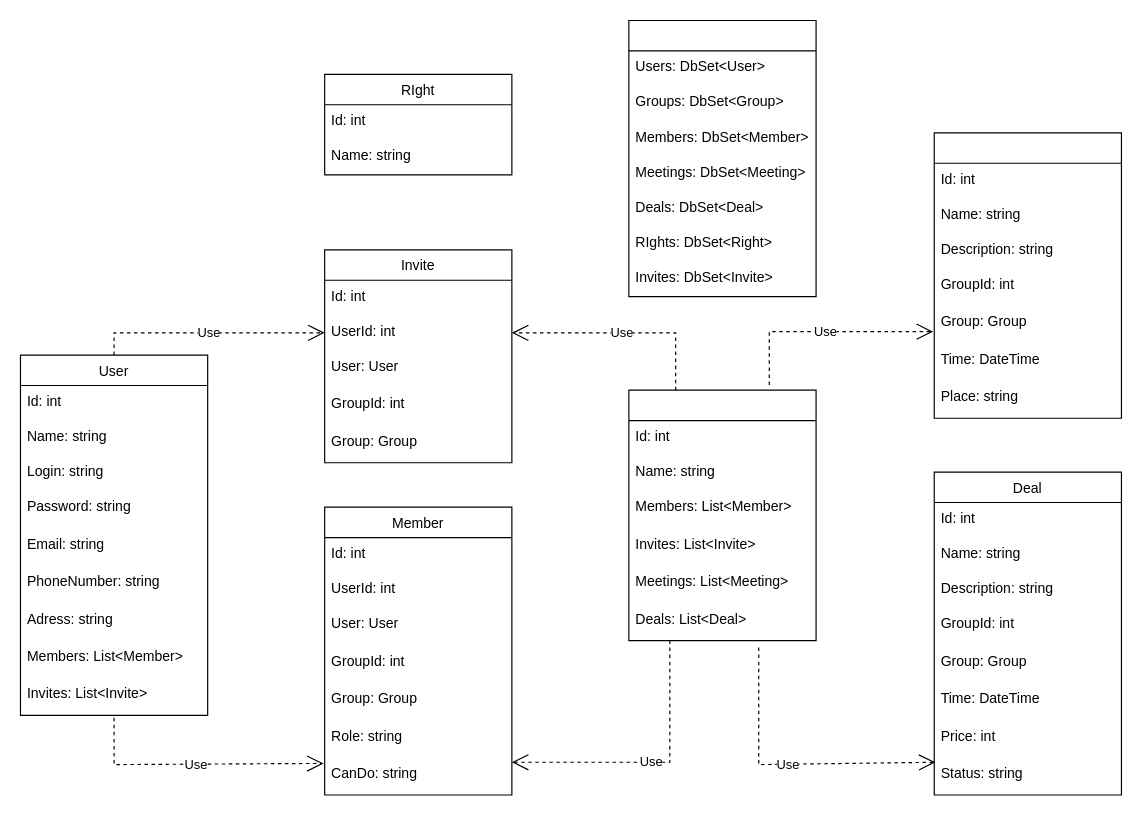
Some shapes in this 1142 by 819 pixel diagram are drawn without their labels. The box of each missing label's shape, as (x1, y1, x2, y2) in pixels:
CrmContext: (628, 19, 816, 297)
Group: (628, 389, 816, 641)
Meeting: (933, 132, 1121, 418)
